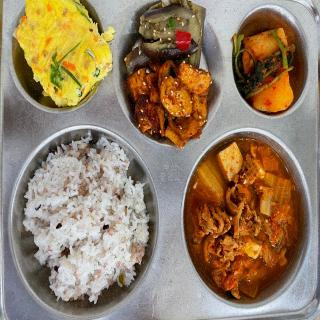Nasi: (21, 137, 151, 309)
